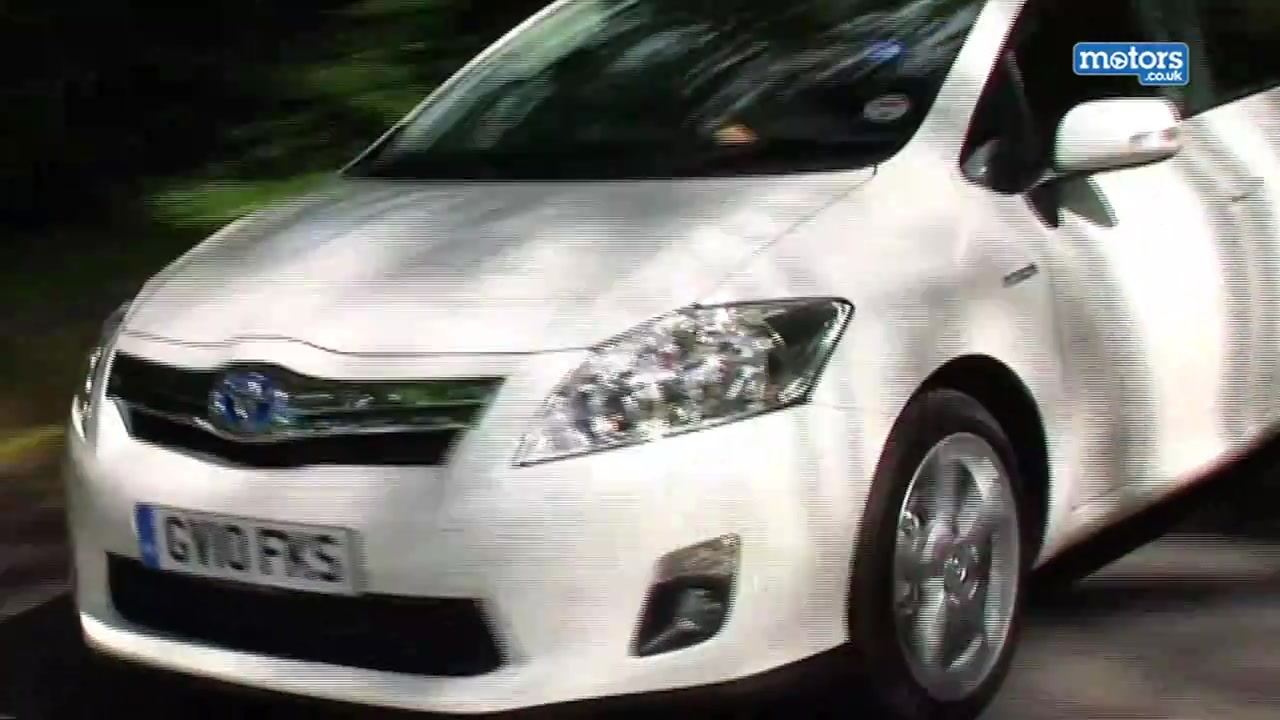car: (63, 3, 1280, 720)
